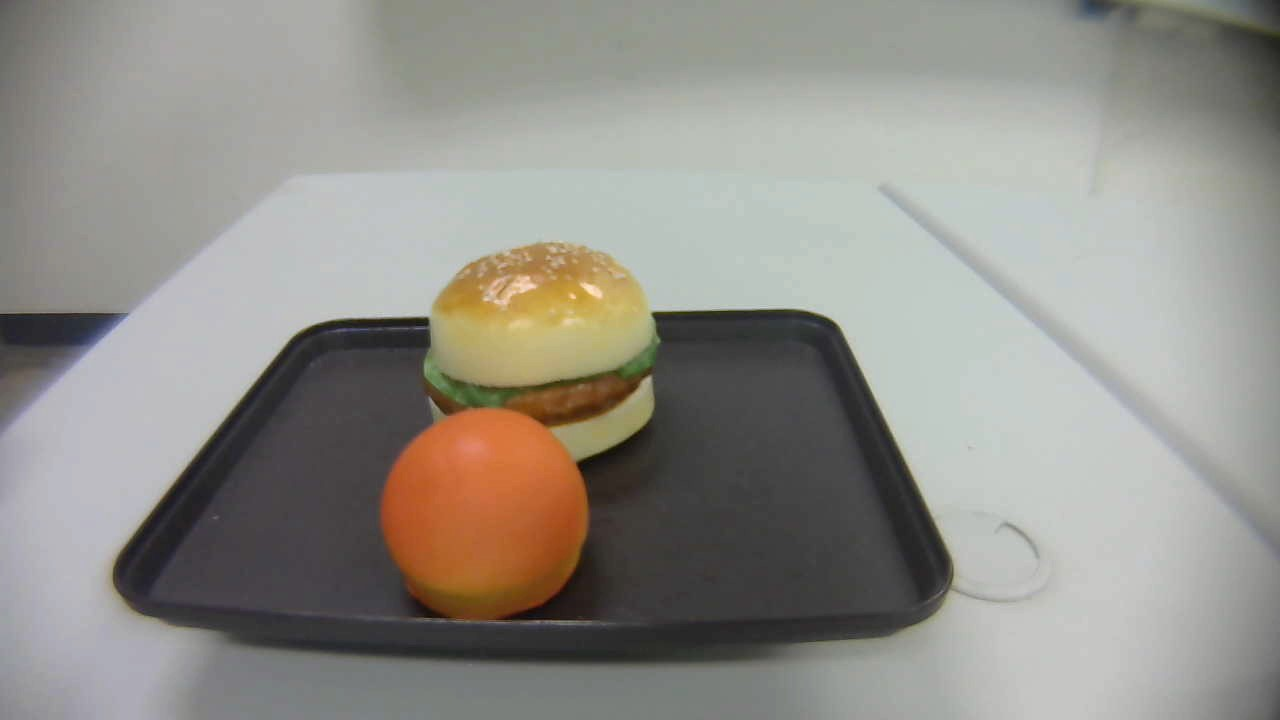bun: (380, 407, 588, 620)
hamburger: (423, 241, 658, 463)
